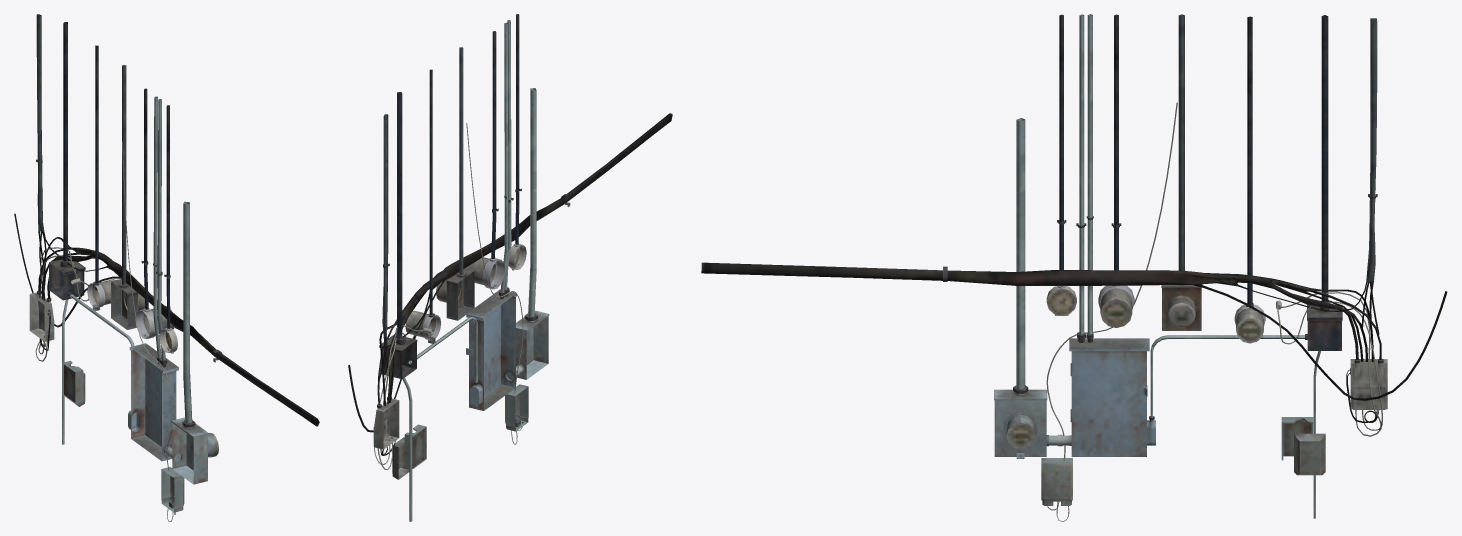
Rendered from sm20_008_electricitymeter01a.fbx.
3 renders of one model, left to right at view 1: azimuth 30°, elevation 25°; view 2: azimuth 150°, elevation 25°; view 3: azimuth 270°, elevation 25°, orthographic. The views are drawn at different scales.
Visible parts, largest first — view 1: LOD_1_Group_0_Sub_1__sm20_008_electricityMeter01A_A_Mat; view 2: LOD_1_Group_0_Sub_1__sm20_008_electricityMeter01A_A_Mat; view 3: LOD_1_Group_0_Sub_1__sm20_008_electricityMeter01A_A_Mat.
Boxes of the visible parts, bbox=[...] form: LOD_1_Group_0_Sub_1__sm20_008_electricityMeter01A_A_Mat: bbox=[14, 14, 319, 521]; LOD_1_Group_0_Sub_1__sm20_008_electricityMeter01A_A_Mat: bbox=[348, 14, 672, 521]; LOD_1_Group_0_Sub_1__sm20_008_electricityMeter01A_A_Mat: bbox=[701, 14, 1447, 521].
Bounding box in the file's own units: 0.2416 × 2.8 × 3.72.
